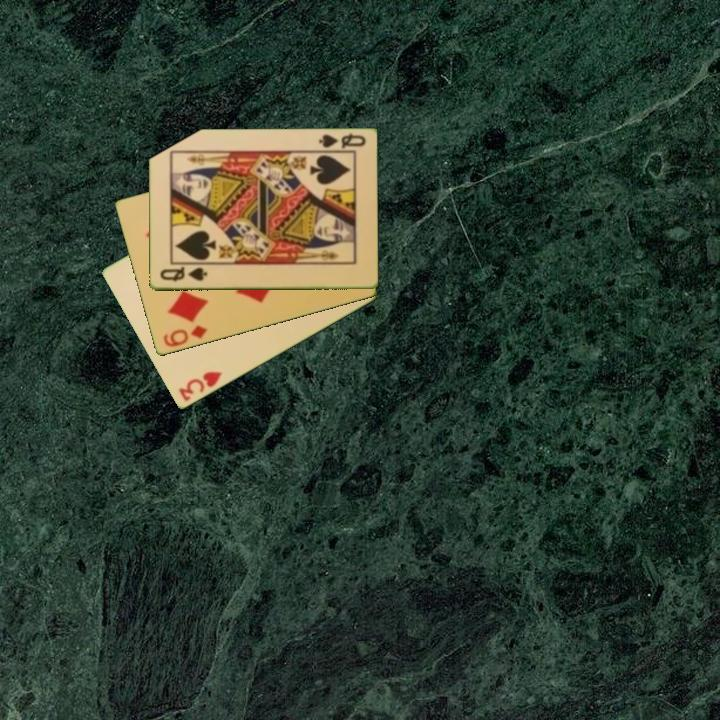3h: (175, 368, 225, 405)
6d: (160, 322, 210, 350)
Qs: (315, 130, 368, 152), (156, 264, 210, 285)
